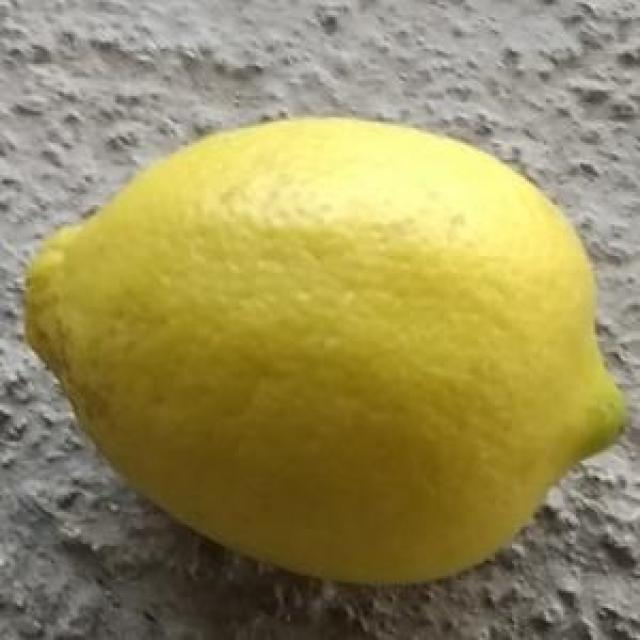lemon: (23, 109, 630, 602)
